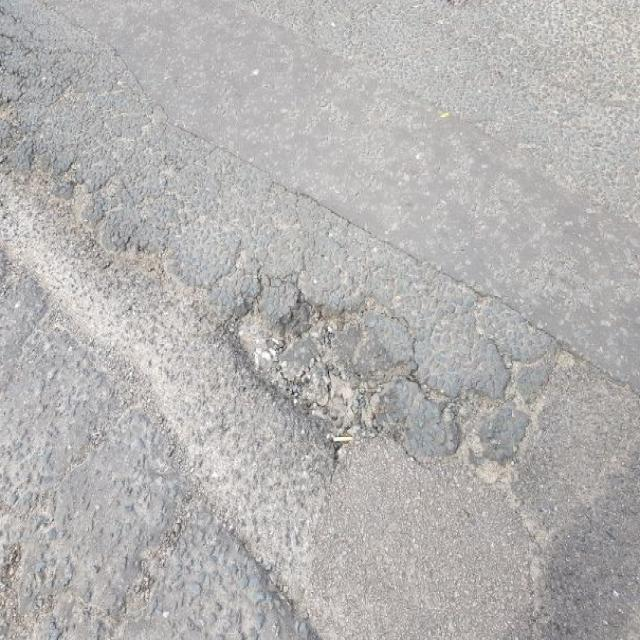Pothole: (222, 266, 498, 468)
